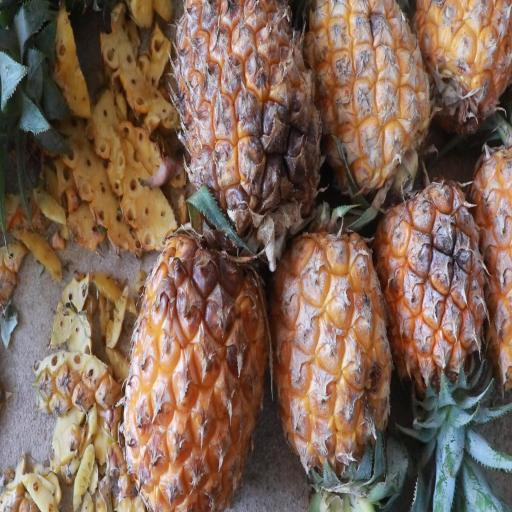Pineapple - v8 v1: (120, 221, 269, 512), (176, 0, 326, 245), (272, 217, 394, 475), (306, 0, 436, 205), (382, 172, 495, 384), (415, 0, 512, 148)
